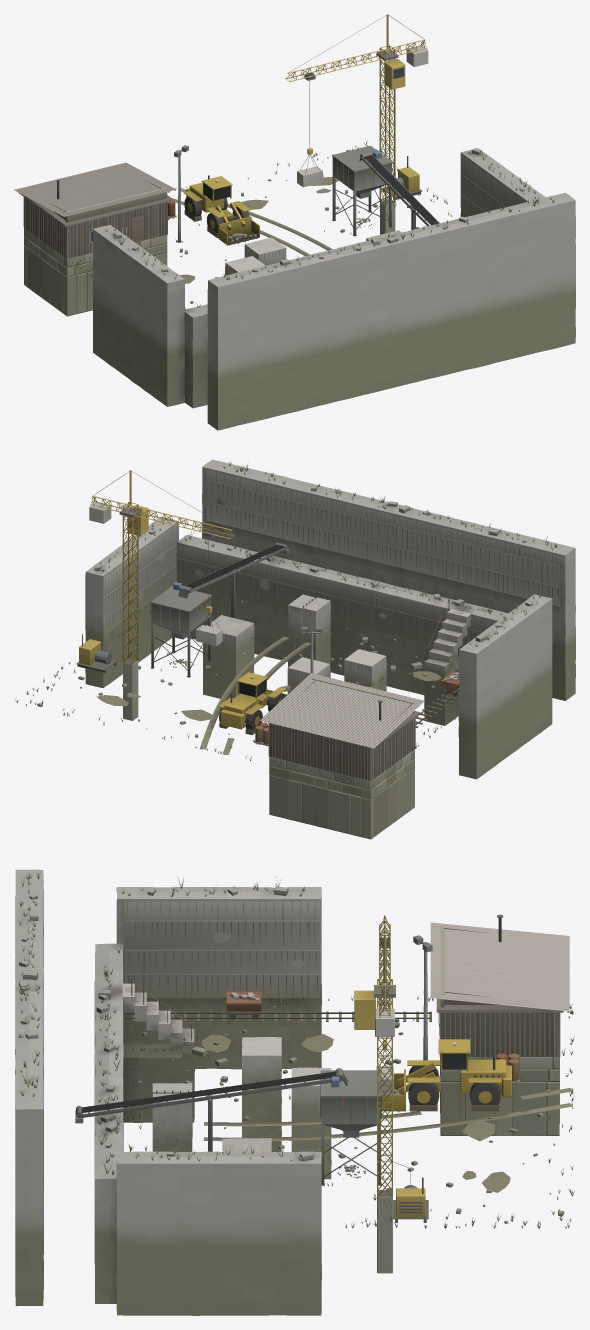
The model's file is mark_quarry.glb.
The picture shows the model from 3 angles, top to bottom: view 1: azimuth 30°, elevation 25°; view 2: azimuth 150°, elevation 25°; view 3: azimuth 270°, elevation 25°; orthographic projection. The views are drawn at different scales.
Visible parts, largest first — view 1: ashlar, steel, timber, sheet, paint, yard, leaf, concrete; view 2: ashlar, steel, sheet, timber, yard, leaf, paint, concrete; view 3: ashlar, steel, sheet, timber, yard, leaf, paint, concrete.
Part boxes in pixels (<box>): ashlar: <box>24,148,575,430</box>; steel: <box>55,14,439,245</box>; timber: <box>19,181,176,258</box>; sheet: <box>14,162,175,216</box>; paint: <box>186,176,259,244</box>; yard: <box>172,177,338,283</box>; leaf: <box>72,141,554,309</box>; concrete: <box>380,45,428,234</box>; ashlar: <box>37,459,575,839</box>; steel: <box>76,470,458,744</box>; sheet: <box>260,673,424,748</box>; timber: <box>254,599,458,780</box>; yard: <box>96,636,441,754</box>; leaf: <box>14,462,557,784</box>; paint: <box>221,672,287,729</box>; concrete: <box>89,502,138,720</box>; ashlar: <box>15,869,564,1315</box>; steel: <box>75,914,519,1222</box>; sheet: <box>430,922,569,1011</box>; timber: <box>132,926,563,1083</box>; yard: <box>202,1034,572,1192</box>; leaf: <box>15,870,574,1228</box>; paint: <box>382,1039,511,1110</box>; concrete: <box>375,1008,394,1273</box>.
Bounding box in the file's own units: 30.91 × 18.64 × 28.31.
